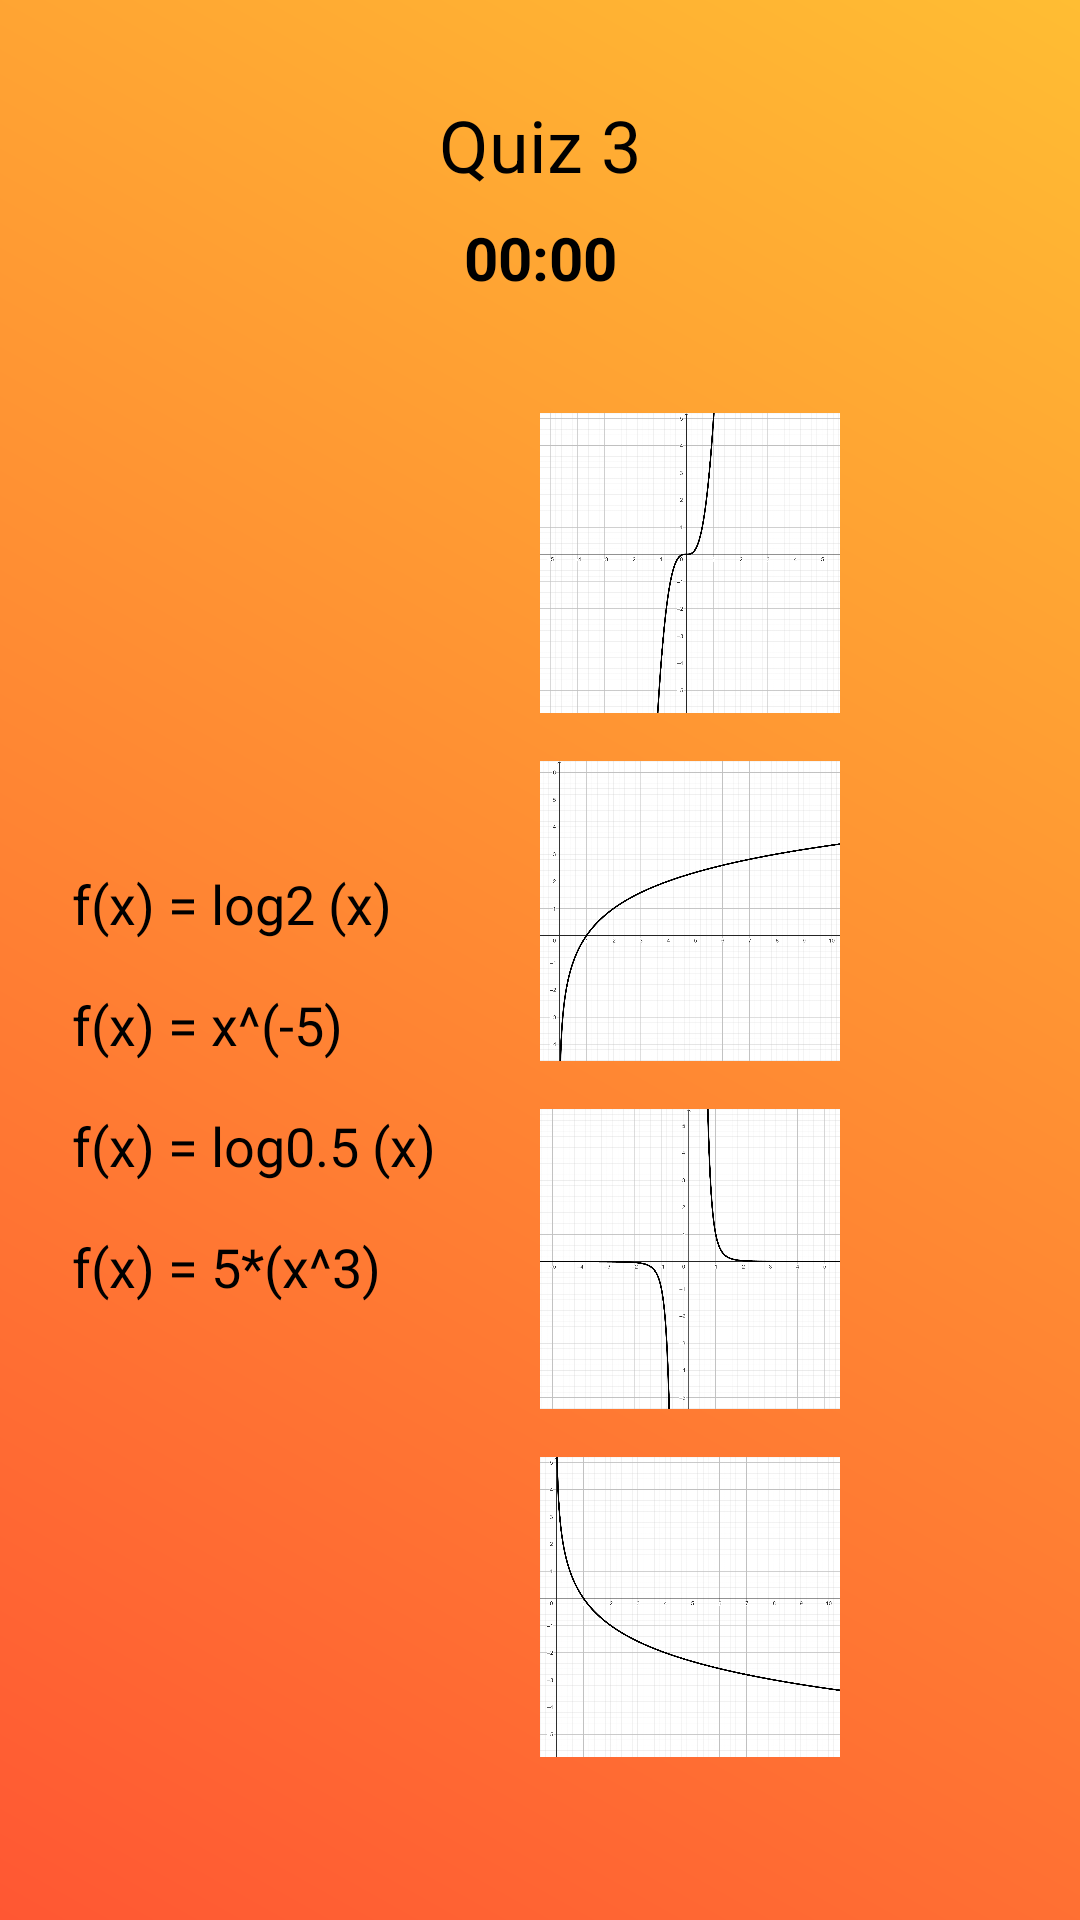

Point at icon controls on the screen. Image size 1080 × 1920, points as (x=x, y=y).
graph: (x=690, y=563), (x=690, y=911), (x=690, y=1259), (x=690, y=1607)
